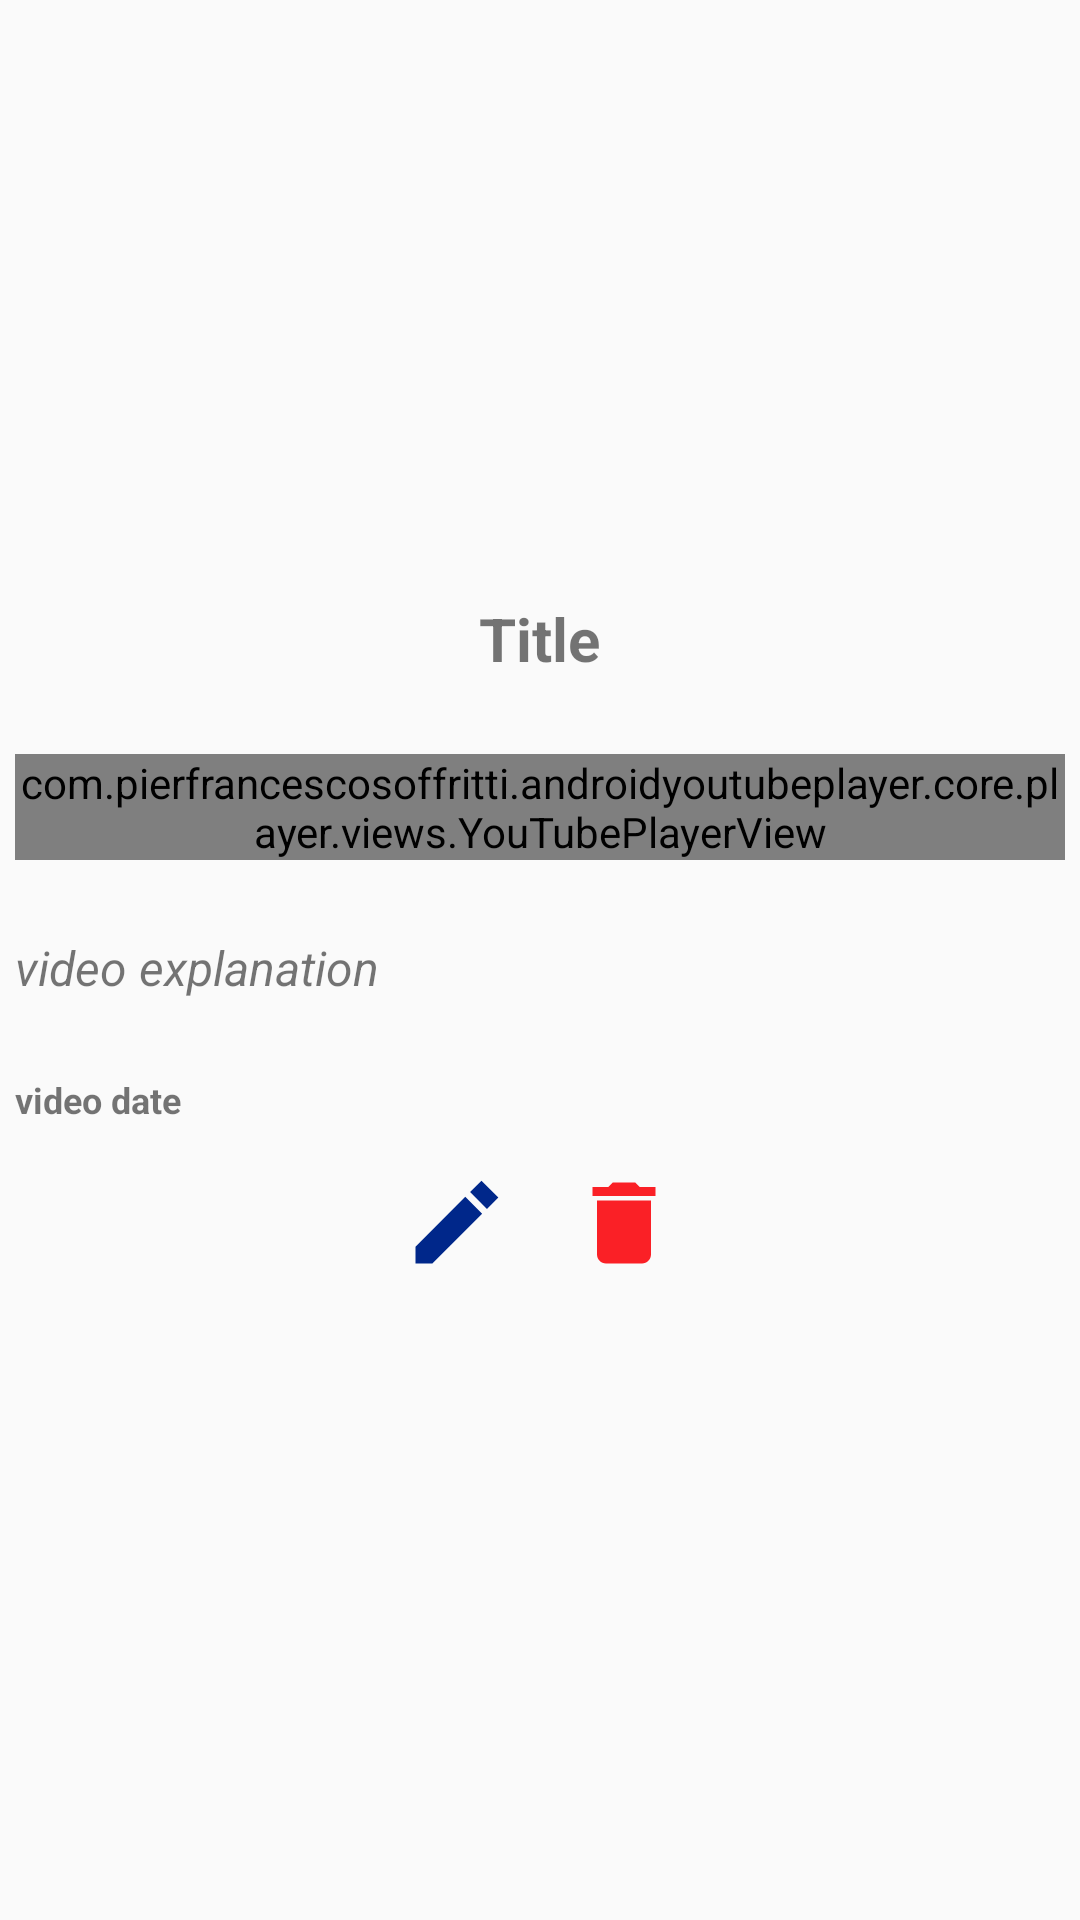

Where to tap for icons on this 1080 × 1920 app screen, as point (x, y):
delete: point (624, 1223)
edit: point (457, 1222)
